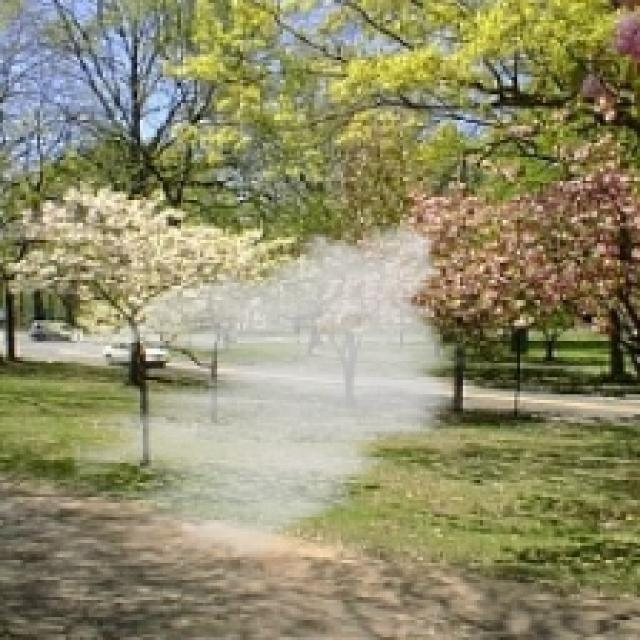Smoke: (71, 206, 472, 572)
